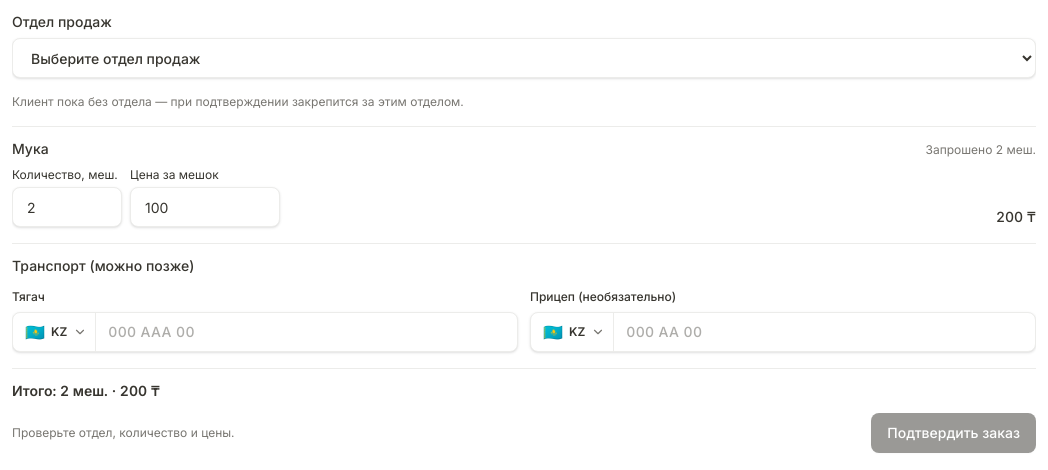
requires positive prices and hides inactive department choices
Select "Мельница" in the dropdown labelled "Отдел продаж": (524, 58) 12,38 -> 1036,78
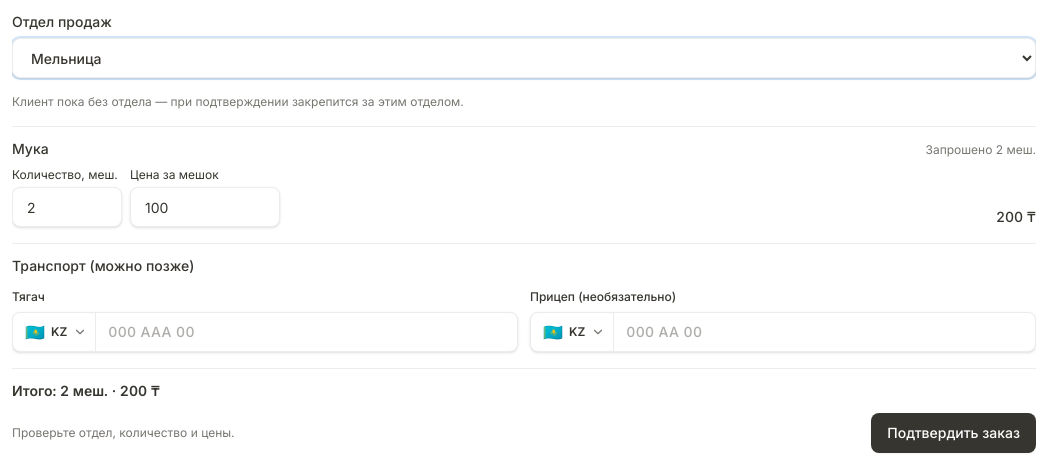
Clear the number field named "Цена: Мука": (205, 207) 130,187 -> 280,227
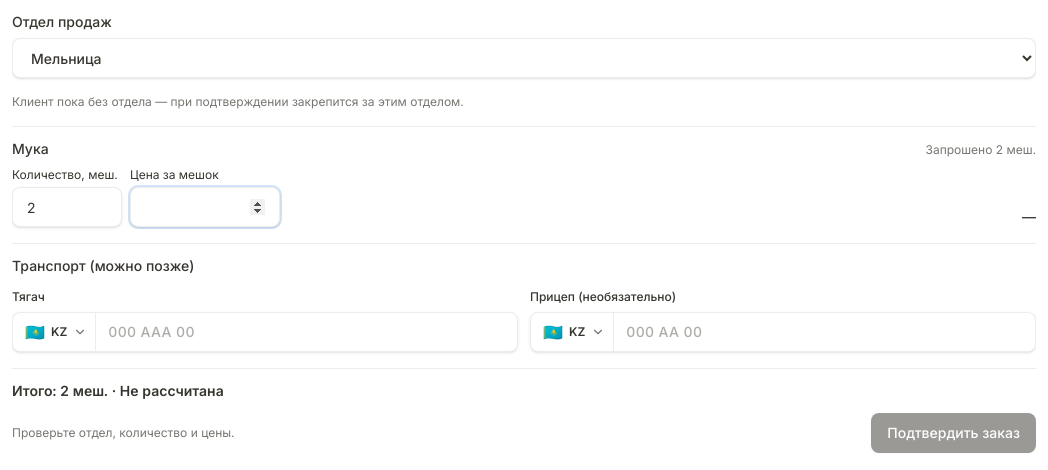
Now the button "Подтвердить заказ" is disabled, box 871,413 -> 1036,453
